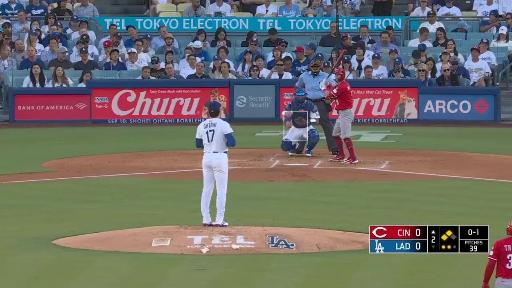pitcher: (196, 101, 237, 226)
